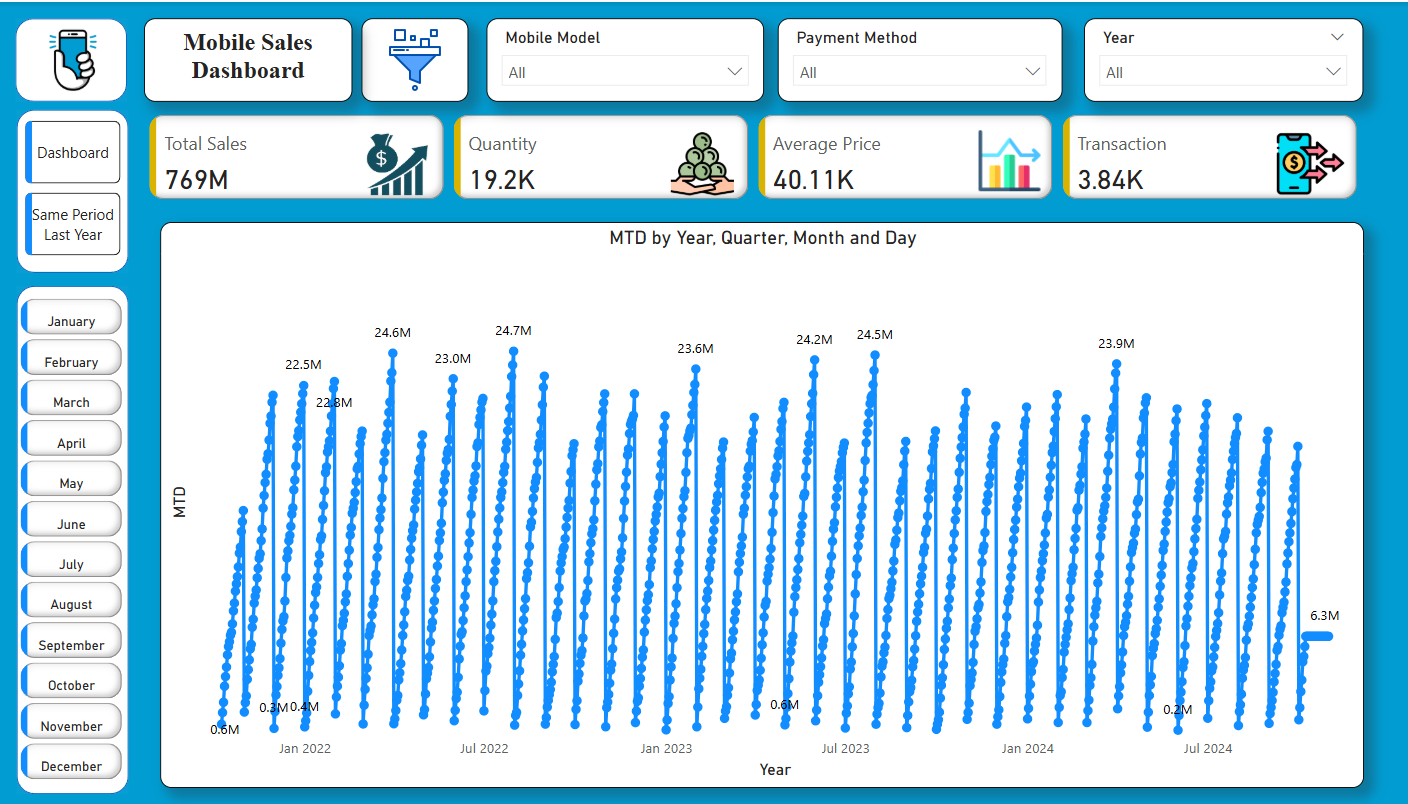

What the dashboard file says about the page in this screenshot:
{"tool":"powerbi","page":{"name":"MTD Report","canvas":[1280,720],"ordinal":1},"visuals":[{"type":"shape","box":[14.5,14.5,100.1,74.8],"z":0},{"type":"image","box":[21.7,10.9,86.9,80.8],"z":1000},{"type":"shape","box":[15.7,95.3,100.1,146],"z":2000},{"type":"cardVisual","fields":{"Data":["Mobile_Sales_Data.Total Sales","Mobile_Sales_Data.Quantity","Mobile_Sales_Data.Average Price","Mobile_Sales_Data.Transaction"]},"box":[129.1,95.3,1087,85.7],"z":3000},{"type":"slicer","fields":{"Values":["Mobile_Sales_Data.Mobile Model"]},"box":[434.3,14.5,247.3,74.8],"z":4000},{"type":"slicer","fields":{"Values":["Mobile_Sales_Data.Payment Method"]},"box":[693.7,14.5,253.4,74.8],"z":5000},{"type":"slicer","fields":{"Values":["Custom_Calender.Date.Variation.Date Hierarchy.Year"]},"box":[966.4,14.5,248.5,74.8],"z":6000},{"type":"image","box":[323.3,14.5,95.3,74.8],"z":7000},{"type":"textbox","box":[129.1,14.5,185.8,74.8],"z":8000},{"type":"lineChart","fields":{"Category":["Custom_Calender.Date.Variation.Date Hierarchy.Year","Custom_Calender.Date.Variation.Date Hierarchy.Quarter","Custom_Calender.Date.Variation.Date Hierarchy.Month","Custom_Calender.Date.Variation.Date Hierarchy.Day"],"Y":["Mobile_Sales_Data.MTD"]},"box":[143.6,195.9,1072,504.3],"z":9000},{"type":"shape","box":[15.7,252.1,100.1,452.4],"z":10000},{"type":"advancedSlicerVisual","fields":{"Values":["Custom_Calender.Date.Variation.Date Hierarchy.Month"]},"box":[14.5,259.4,100.1,440.4],"z":11000},{"type":"pageNavigator","box":[22.9,106.2,85.7,121.9],"z":12000}]}

Visuals, with their boxes in screenshot pixels (x1, y1, x2, y2), scaled from the page's 1280x720 canvas onto the 1408x804 screenshot:
shape: box(16, 16, 126, 100)
image: box(24, 12, 119, 102)
shape: box(17, 106, 127, 269)
cardVisual - Mobile_Sales_Data.Total Sales x Mobile_Sales_Data.Quantity: box(142, 106, 1338, 202)
slicer - Mobile_Sales_Data.Mobile Model: box(478, 16, 750, 100)
slicer - Mobile_Sales_Data.Payment Method: box(763, 16, 1042, 100)
slicer - Custom_Calender.Date.Variation.Date Hierarchy.Year: box(1063, 16, 1336, 100)
image: box(356, 16, 460, 100)
textbox: box(142, 16, 346, 100)
lineChart - Custom_Calender.Date.Variation.Date Hierarchy.Year x Custom_Calender.Date.Variation.Date Hierarchy.Quarter: box(158, 219, 1337, 782)
shape: box(17, 282, 127, 787)
advancedSlicerVisual - Custom_Calender.Date.Variation.Date Hierarchy.Month: box(16, 290, 126, 781)
pageNavigator: box(25, 119, 119, 255)
